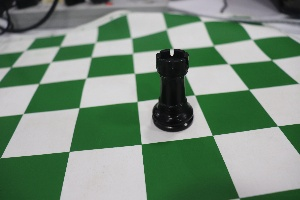black_rook: (138, 43, 201, 141)
